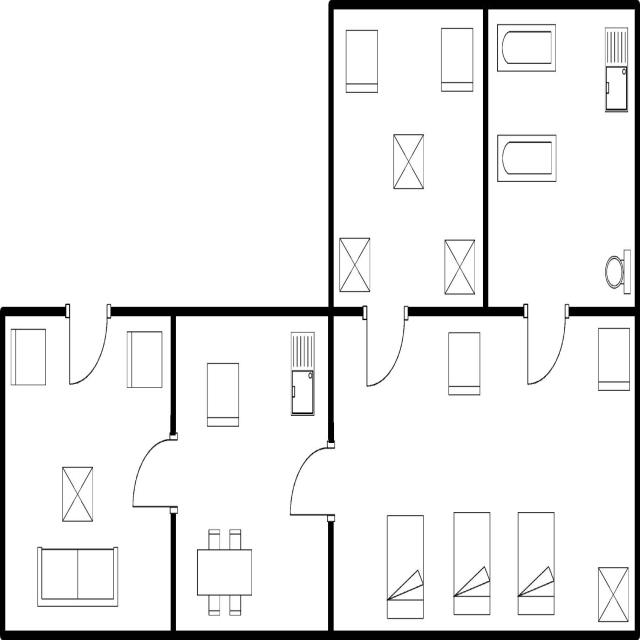bed: (384, 509, 429, 622), (449, 506, 493, 620), (514, 506, 558, 619)
coffee_table: (58, 459, 96, 528), (594, 559, 632, 627), (390, 130, 427, 198), (336, 232, 373, 300), (442, 234, 478, 301)
dining_table: (192, 522, 255, 621)
large_sink: (602, 242, 632, 298)
large_sofa: (33, 540, 122, 614)
sink: (287, 324, 317, 422), (602, 21, 630, 119)
small_sofa: (592, 320, 634, 400), (203, 356, 243, 433), (342, 24, 382, 100), (122, 324, 166, 393), (437, 20, 476, 97), (444, 327, 483, 403), (8, 324, 48, 393)
tub: (493, 126, 560, 188), (494, 18, 560, 79)
